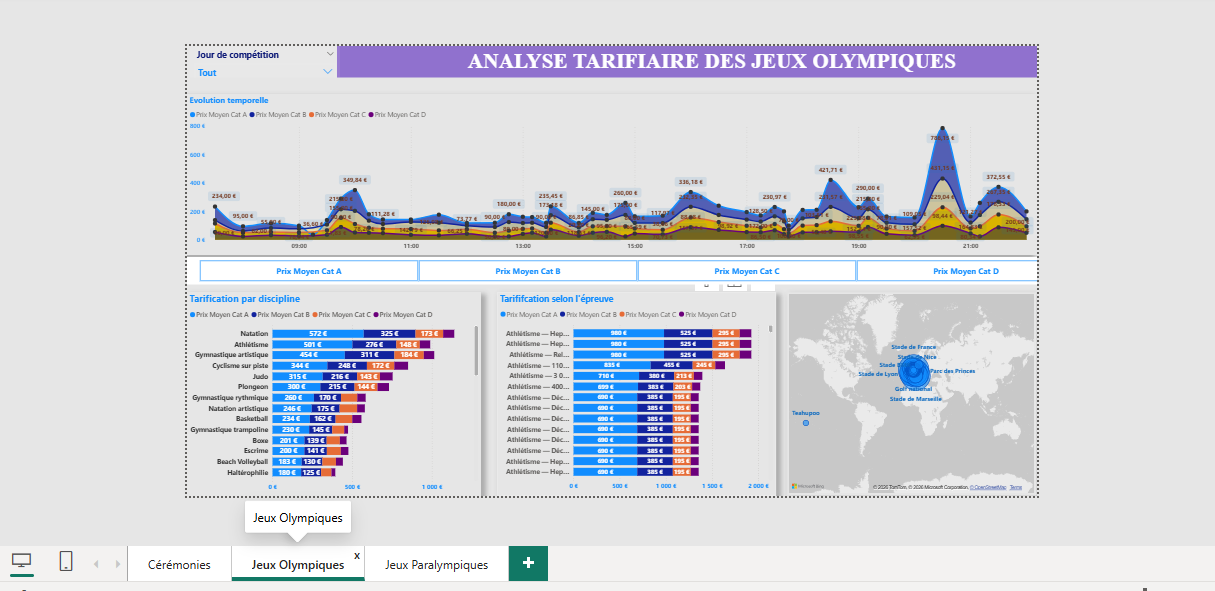

Layout of this report page (visuals, bound fields, positions):
{"tool":"powerbi","page":{"name":"Jeux Olympiques","canvas":[1700,900],"ordinal":1},"visuals":[{"type":"textbox","box":[300,0,1500,62.5],"z":0},{"type":"lineChart","title":"Evolution temporelle","fields":{"Y":["Sheet 1.Prix Moyen Cat A","Sheet 1.Prix Moyen Cat B","Sheet 1.Prix Moyen Cat C","Sheet 1.Prix Moyen Cat D"],"Category":["Sheet 1.Début_heure"]},"box":[0,96,1700,322],"z":1000},{"type":"barChart","title":"Tarification par discipline","fields":{"Y":["Sheet 1.Prix Moyen Cat A","Sheet 1.Prix Moyen Cat B","Sheet 1.Prix Moyen Cat C","Sheet 1.Prix Moyen Cat D"],"Category":["Sheet 1.Discipline"]},"box":[0,492.5,587.5,407.5],"z":2000},{"type":"barChart","title":"Tarififcation selon l''épreuve","fields":{"Y":["Sheet 1.Prix Moyen Cat A","Sheet 1.Prix Moyen Cat B","Sheet 1.Prix Moyen Cat C","Sheet 1.Prix Moyen Cat D"],"Category":["Sheet 1.Epreuve_complète"]},"box":[620,492.5,557.5,407.5],"z":3000},{"type":"slicer","fields":{"Values":["Matrice Olympiques.Matrice Olympiques"]},"box":[0,422.5,1800,55],"z":4000},{"type":"slicer","fields":{"Values":["Sheet 1.Date_Début"]},"box":[5,0,300,62.5],"z":5000},{"type":"map","fields":{"Size":["Max(Sheet 1.capacité)"],"Category":["Sheet 1.Lieu"]},"box":[1200,492.5,500,407.5],"z":7000}]}

Visuals, with their boxes on the page's 1700x900 design canvas (x1, y1, x2, y2). These are canvas units, not pixel positions in the 1215x591 screenshot, which may show the page scaled, cropped or inside an application window:
textbox: (300, 0, 1800, 62)
"Evolution temporelle" lineChart: (0, 96, 1700, 418)
"Tarification par discipline" barChart: (0, 492, 588, 900)
"Tarififcation selon l''épreuve" barChart: (620, 492, 1178, 900)
slicer - Matrice Olympiques.Matrice Olympiques: (0, 422, 1800, 478)
slicer - Sheet 1.Date_Début: (5, 0, 305, 62)
map - Max(Sheet 1.capacité) x Sheet 1.Lieu: (1200, 492, 1700, 900)
